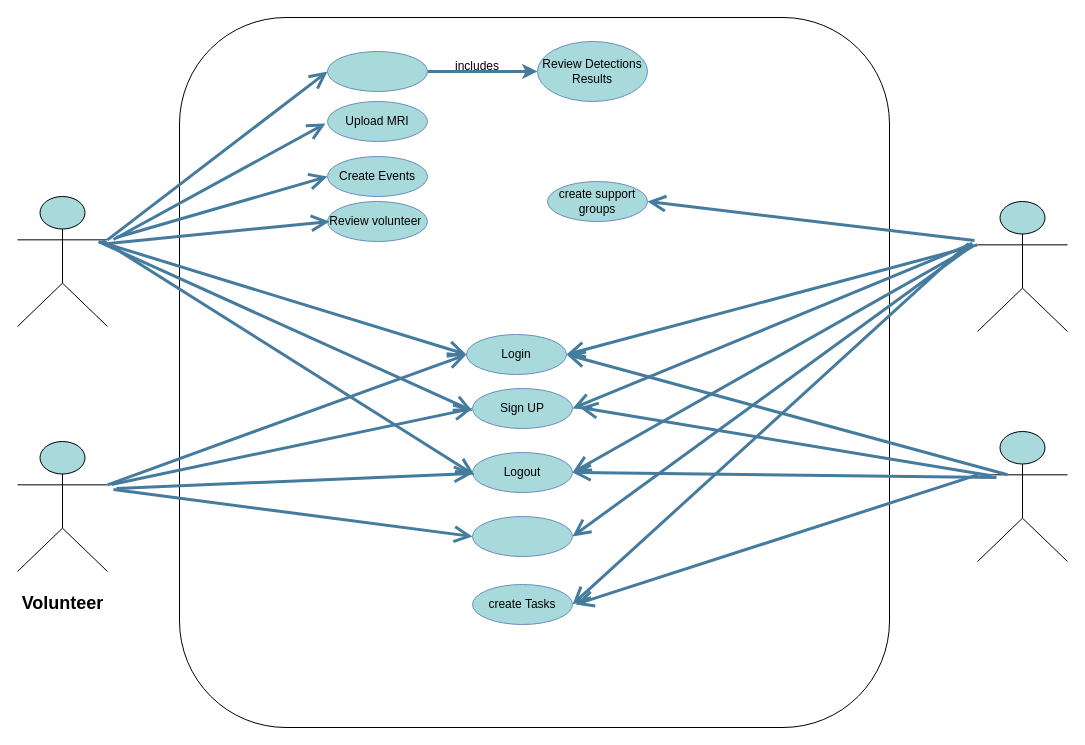
The diagram is 1085 pixels wide and 745 high, and some of its shapes have lost their labels. Here are the shapes that lost their labels. From the top down, the centre of each, then its label:
At (x=377, y=71): "Send Instructions".
At (x=62, y=261): "Doctor".
At (x=1022, y=266): "Patient".
At (x=1022, y=496): "Carer".
At (x=522, y=536): "Make Video Chat".
